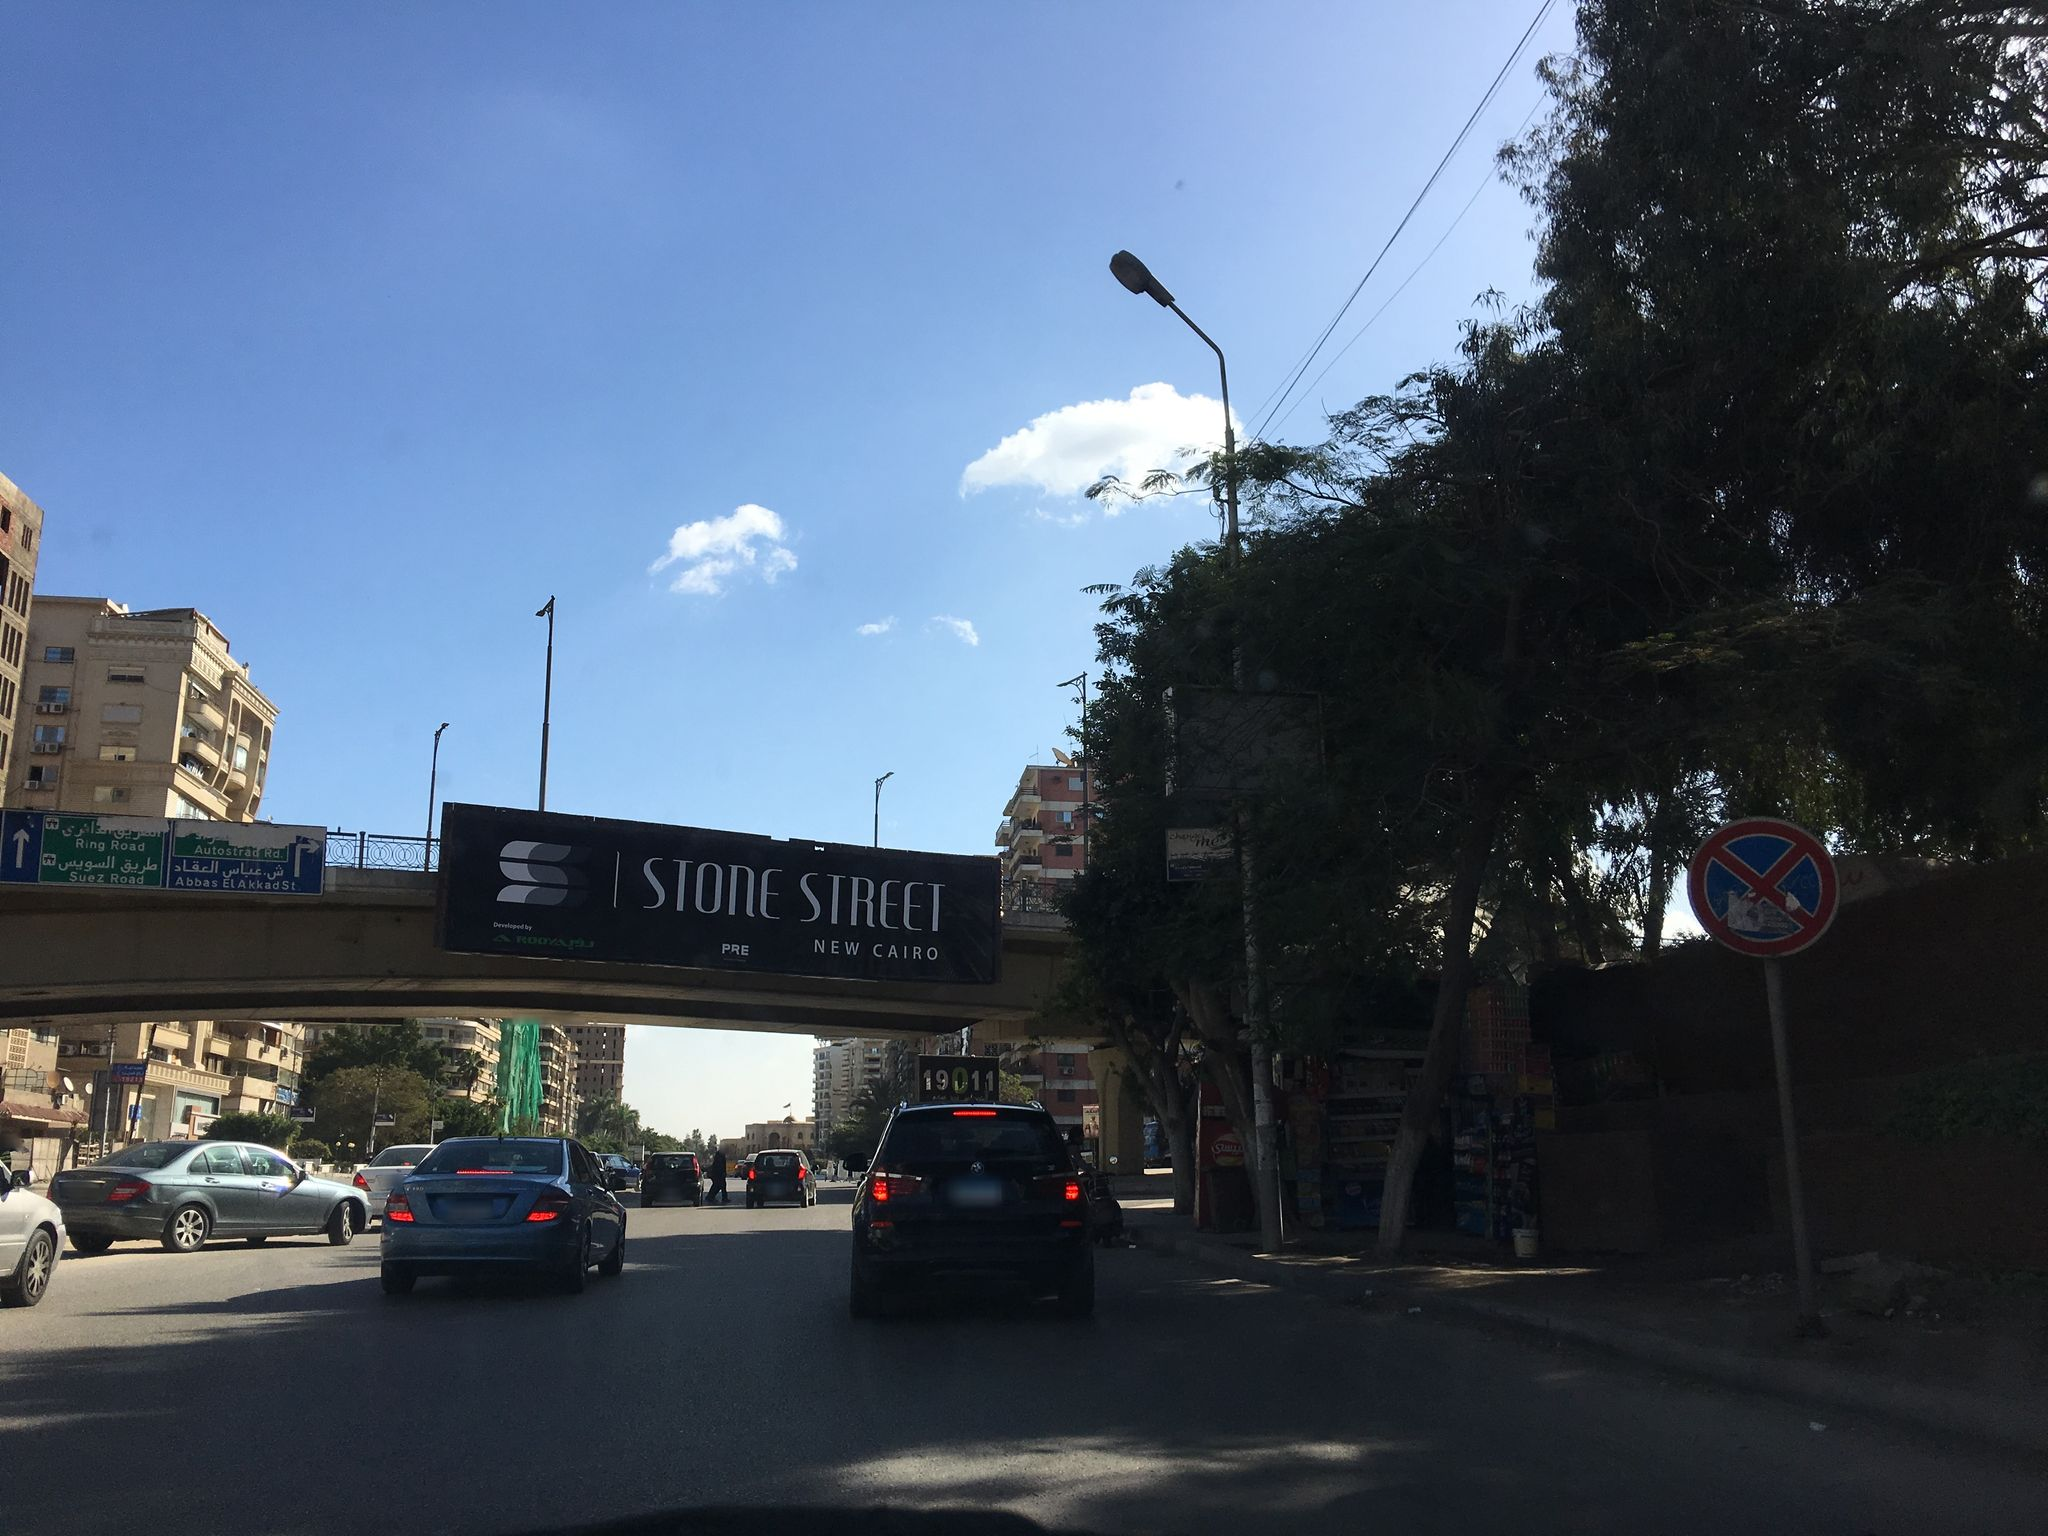car: (842, 1099, 1093, 1320), (376, 1129, 627, 1292), (45, 1139, 373, 1254), (0, 1154, 66, 1309), (350, 1144, 439, 1225), (743, 1149, 818, 1207), (639, 1150, 705, 1207), (597, 1152, 642, 1189), (742, 1154, 758, 1178)
motorcycle: (1072, 1155, 1124, 1244)
